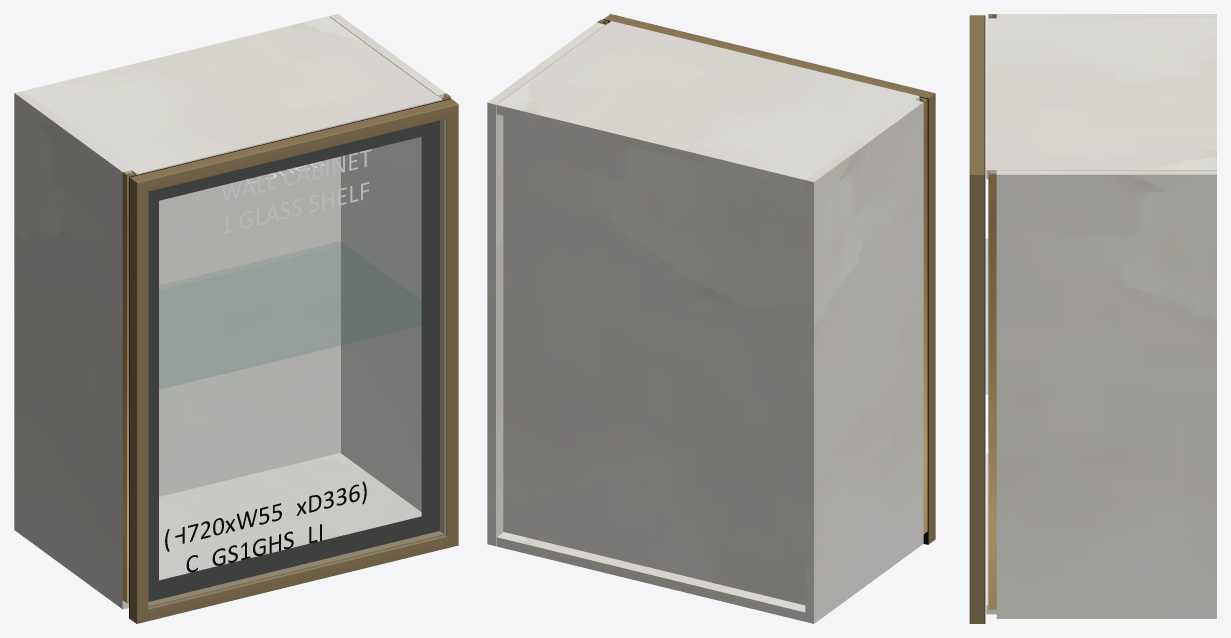
The model's file is WC1GS1GHS_LH (H720 XW550 XD336).glb.
The picture shows the model from 3 angles, left to right: view 1: azimuth 30°, elevation 25°; view 2: azimuth 150°, elevation 25°; view 3: azimuth 270°, elevation 25°; orthographic projection.
Size of what is drawn, in the model's own units: 0.55 by 0.7185 by 0.366.
8 materials, 2 textured.
